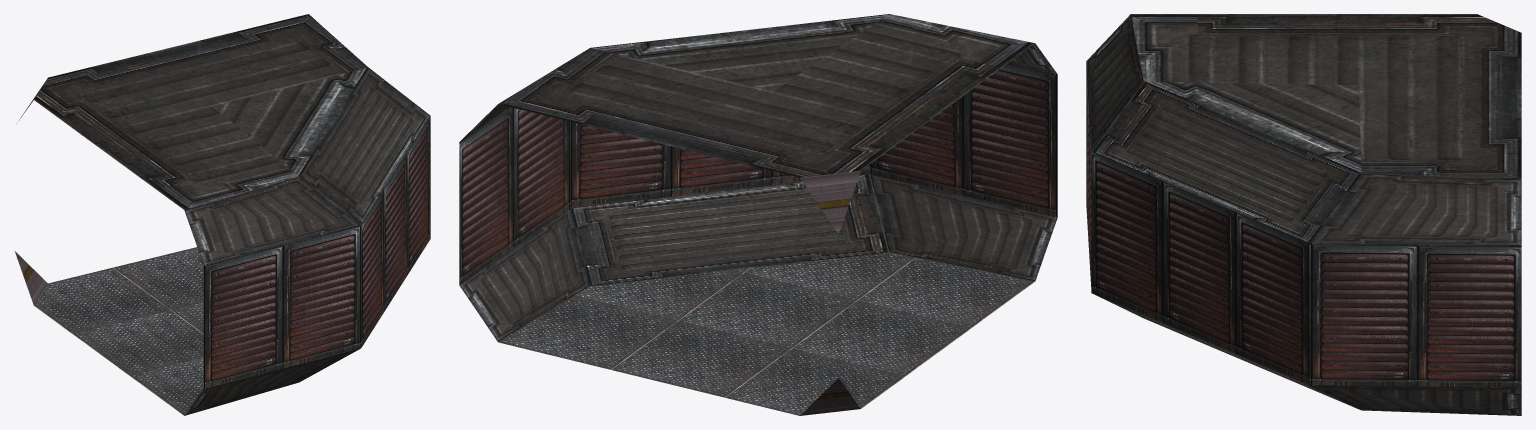
Rendered from HallwayCorner.fbx.
The picture shows the model from 3 angles, left to right: view 1: azimuth 30°, elevation 25°; view 2: azimuth 150°, elevation 25°; view 3: azimuth 270°, elevation 25°; orthographic projection. The views are drawn at different scales.
Parts seen in each view (by area): view 1: pCube20; view 2: pCube20; view 3: pCube20.
Part boxes in pixels (x1=…): pCube20: x1=14, y1=14, x2=430, y2=415; pCube20: x1=459, y1=14, x2=1057, y2=415; pCube20: x1=1086, y1=14, x2=1521, y2=415.
Size of the model in its own units: 10 by 6 by 10.
